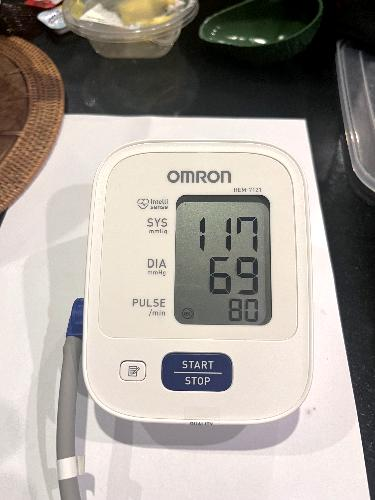bpm: (171, 190, 276, 327)
